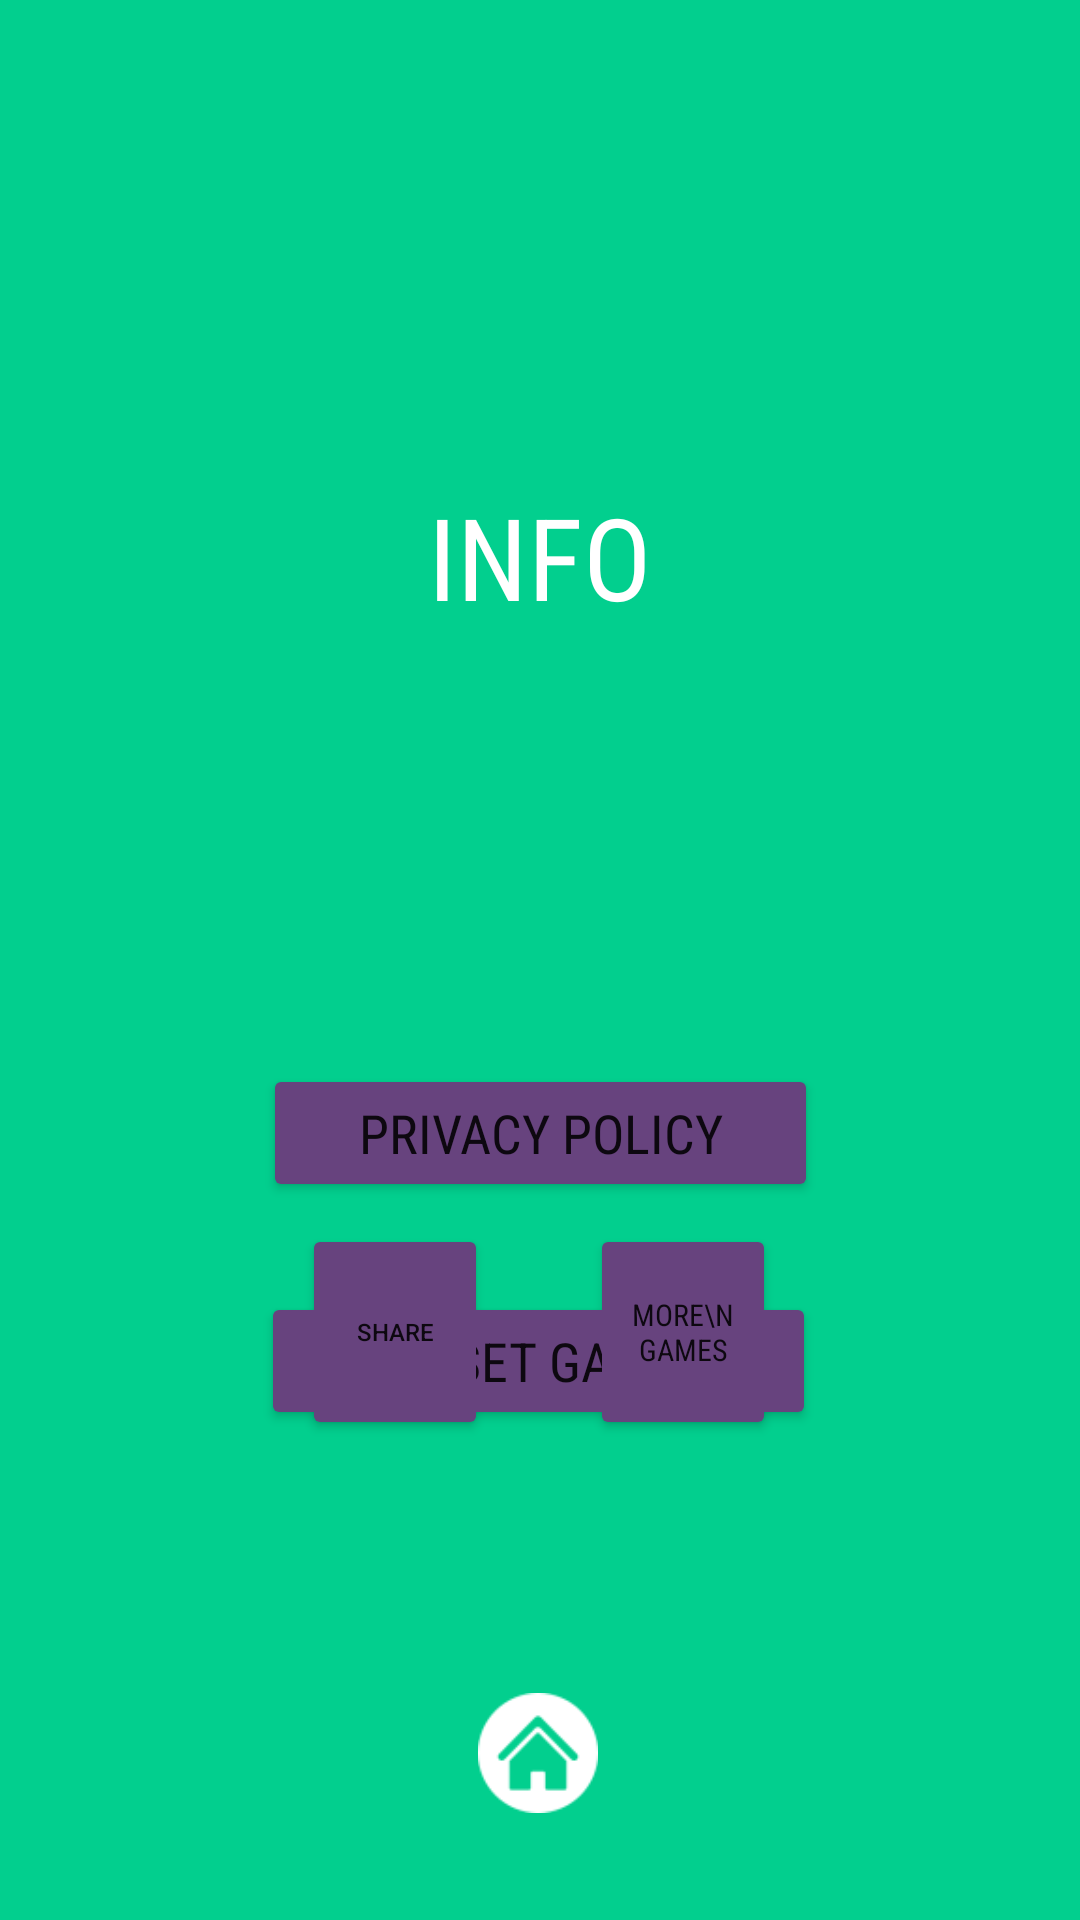

Icon bounding boxes for this 1080px×1920px phone screenshot, format bbox=(x1, y1, x2, y2):
home image: bbox=(478, 1693, 598, 1813)
